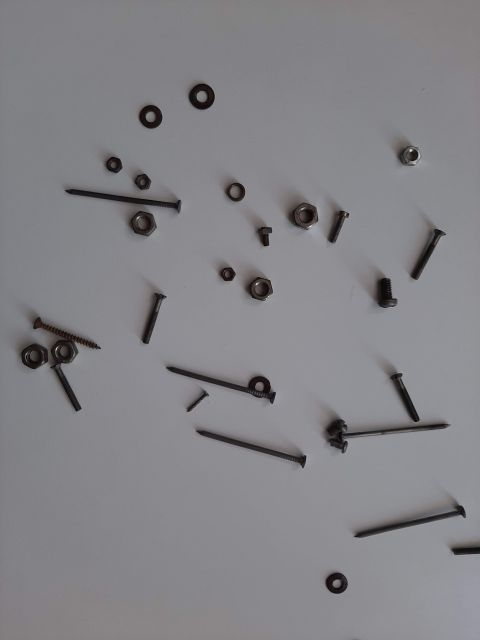gwozdz: (325, 475, 475, 535), (45, 155, 185, 215), (175, 415, 305, 475), (305, 395, 455, 445), (155, 355, 275, 415)
nakretka: (365, 125, 445, 175), (35, 325, 95, 385), (275, 185, 325, 245), (95, 205, 155, 245), (5, 325, 45, 385), (235, 265, 275, 305)
podkladka: (125, 75, 185, 125), (305, 555, 355, 615), (175, 65, 215, 125), (215, 155, 245, 215)
sruba: (125, 275, 185, 355), (385, 205, 445, 275), (35, 355, 95, 415), (355, 275, 415, 325), (325, 185, 355, 265)
